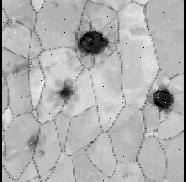good_void: (76, 29, 113, 57), (150, 86, 175, 116), (58, 83, 77, 103), (26, 130, 45, 149), (7, 60, 31, 73), (48, 0, 59, 8), (38, 149, 44, 155)
